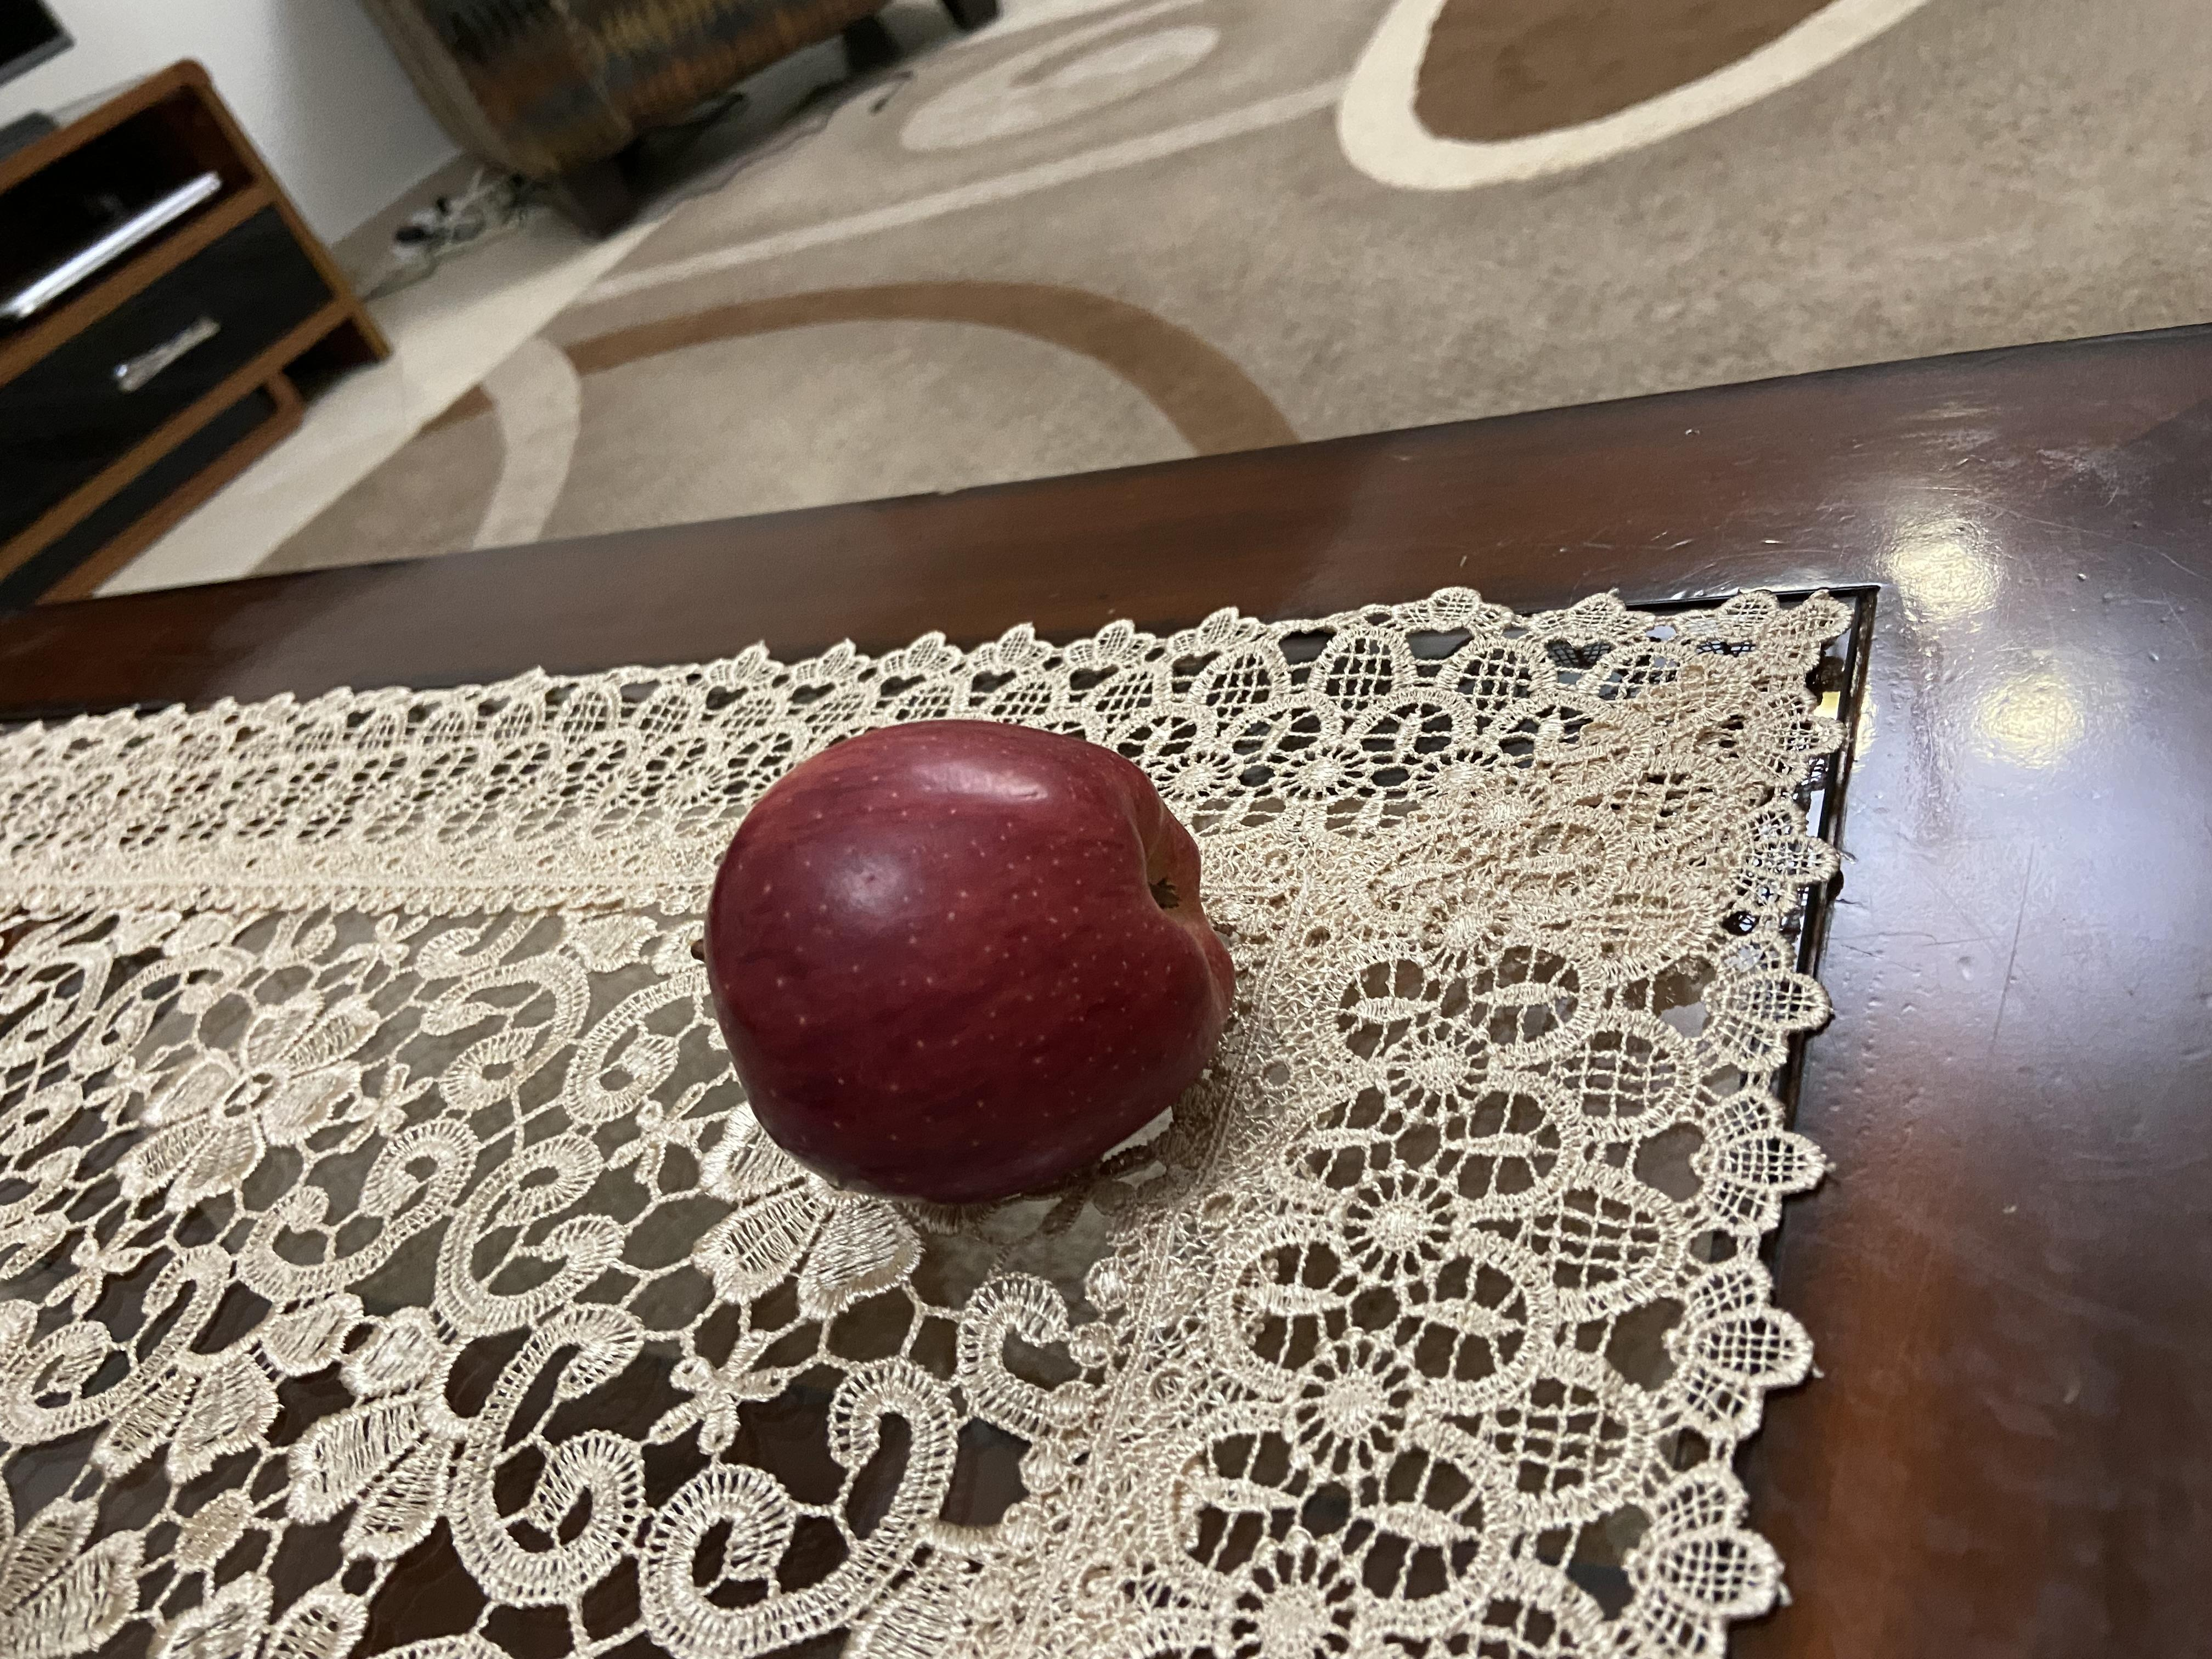Apple: (603, 519, 1266, 931)
